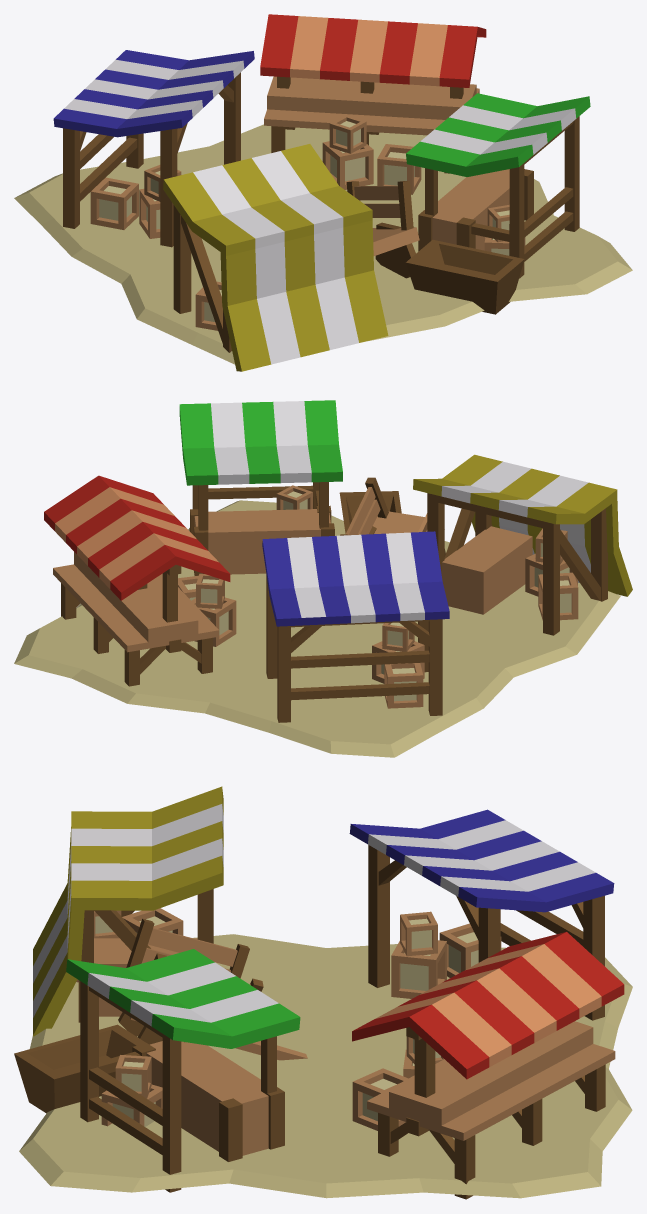
File: Market.fbx
3 renders of one model, top to bottom at view 1: azimuth 30°, elevation 25°; view 2: azimuth 150°, elevation 25°; view 3: azimuth 270°, elevation 25°, orthographic. The views are drawn at different scales.
Visible parts, largest first — view 1: Cube.049, Cube.246, Cube.245, Cube.029, Cube.019, Cube.006, Cube.016, Cube.047, Cube, Cube.044, Cube.277, Cube.013 (+21 smaller); view 2: Cube.049, Cube.019, Cube.006, Cube.029, Cube.245, Cube.016, Cube.249, Cube, Cube.246, Cube.240, Cube.022, Cube.023 (+24 smaller); view 3: Cube.049, Cube.029, Cube.245, Cube.019, Cube.006, Cube.016, Cube, Cube.047, Cube.246, Cube.011, Cube.001, Cube.045 (+26 smaller).
Boxes of the visible parts, x1,y1,x2,y2 form: Cube.049: (14,124,632,364); Cube.246: (220,220,388,371); Cube.245: (163,144,372,255); Cube.029: (260,14,486,87); Cube.019: (53,50,254,137); Cube.006: (406,93,590,176); Cube.016: (264,76,479,135); Cube.047: (405,239,524,314); Cube: (432,169,509,250); Cube.044: (90,177,138,229); Cube.277: (322,141,373,189); Cube.013: (63,128,79,228); Cube.049: (14,500,620,757); Cube.019: (262,531,449,626); Cube.006: (179,400,342,485); Cube.029: (44,475,230,600); Cube.245: (413,454,617,524); Cube.016: (53,552,219,652); Cube.249: (442,526,532,614); Cube: (194,509,330,574); Cube.246: (472,492,632,596); Cube.240: (543,521,559,635); Cube.022: (291,650,429,668); Cube.023: (291,682,429,700); Cube.049: (19,934,632,1198); Cube.029: (352,932,624,1079); Cube.245: (71,786,223,910); Cube.019: (349,809,614,912); Cube.006: (66,949,300,1048); Cube.016: (367,1021,615,1140); Cube: (146,1041,268,1155); Cube.047: (14,1024,145,1113); Cube.246: (33,827,84,1036); Cube.011: (368,845,389,987); Cube.001: (162,1034,181,1192); Cube.045: (391,940,446,998).
Size of the model in its own units: 1223 by 388 by 1211.
